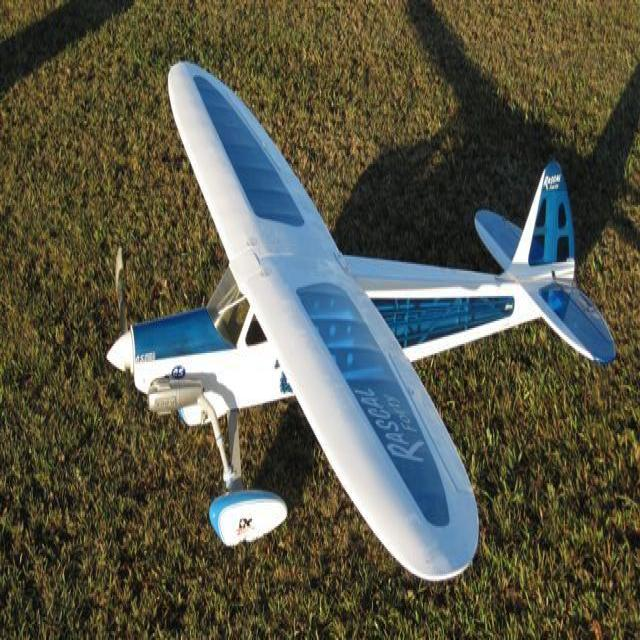iha: (104, 46, 620, 586)
